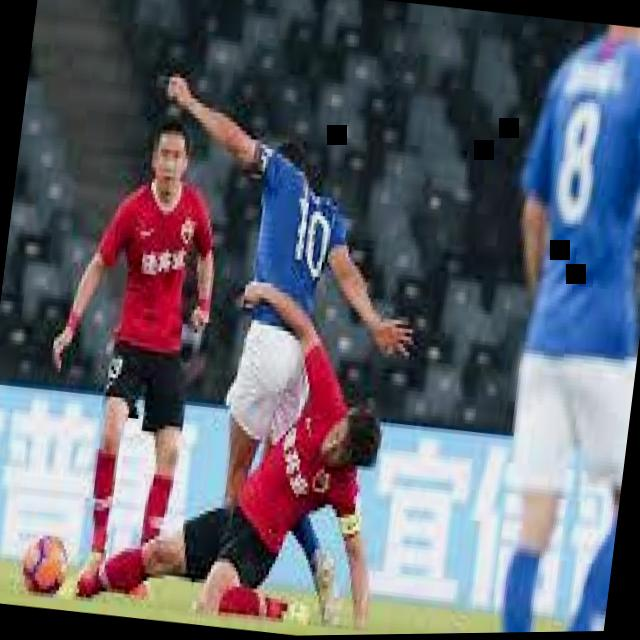Fall-Detected: (48, 248, 424, 626)
